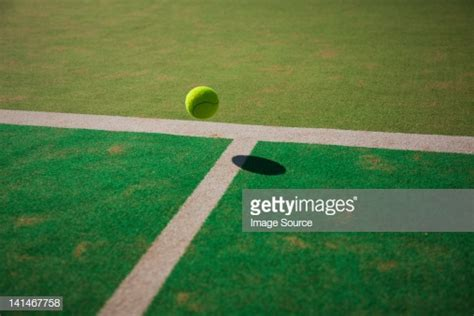tennis_ball: (185, 86, 219, 118)
